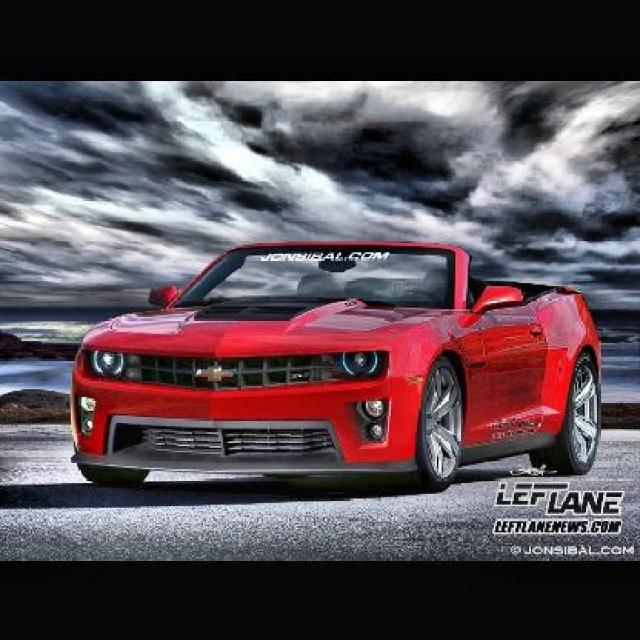red: (55, 225, 640, 500)
